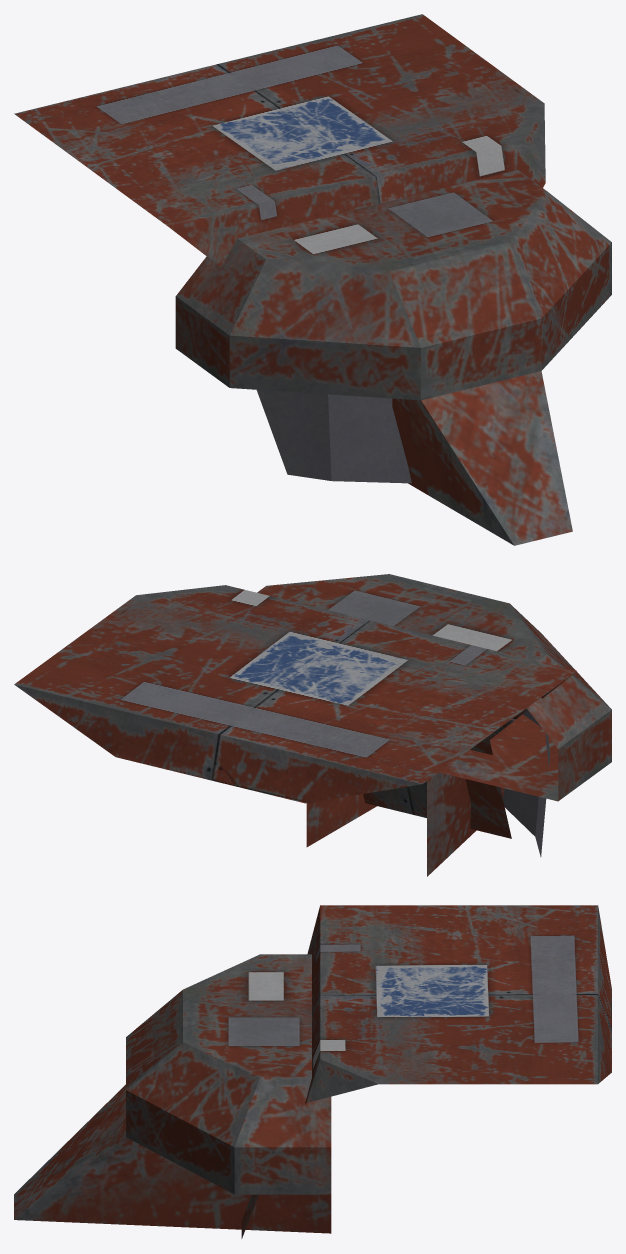
File: HCP8.fbx
The picture shows the model from 3 angles, top to bottom: view 1: azimuth 30°, elevation 25°; view 2: azimuth 150°, elevation 25°; view 3: azimuth 270°, elevation 25°; orthographic projection. The views are drawn at different scales.
Visible parts, largest first — view 1: eightD; view 2: eightD; view 3: eightD.
Boxes of the visible parts, left/top/right/bottom form: eightD: left=14, top=14, right=611, bottom=545; eightD: left=14, top=574, right=611, bottom=876; eightD: left=14, top=905, right=611, bottom=1238.
Size of the model in its own units: 4265 by 2361 by 6022.
1 material, 1 textured.
